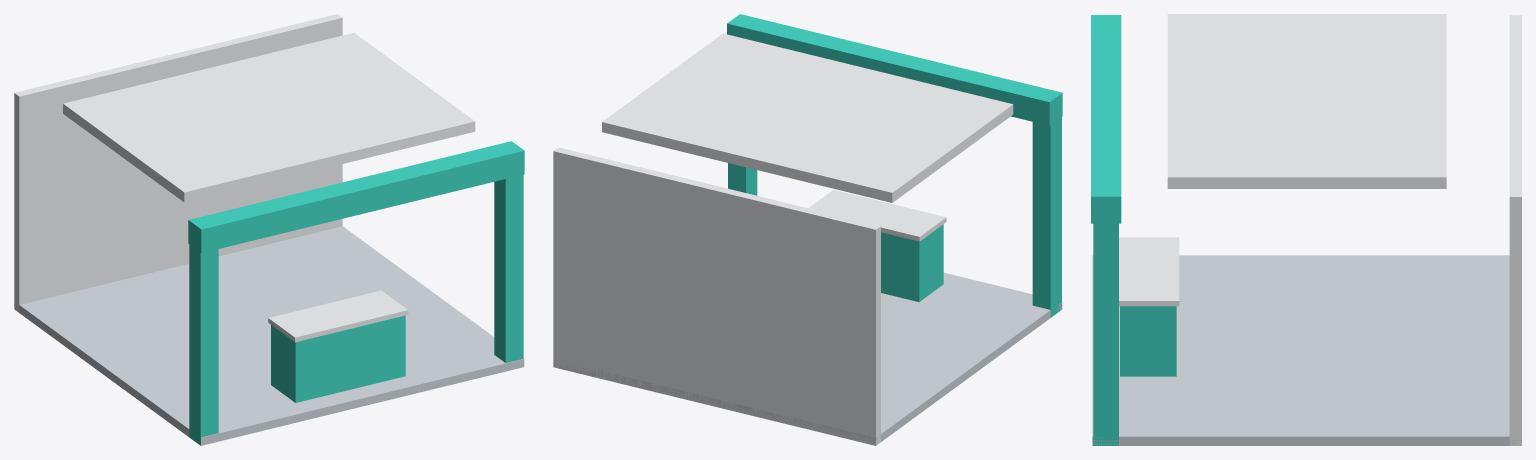
3 renders of one model, left to right at view 1: azimuth 30°, elevation 25°; view 2: azimuth 150°, elevation 25°; view 3: azimuth 270°, elevation 25°, orthographic. The views are drawn at different scales.
Visible parts, largest first — view 1: Exhibition Booth Concept; view 2: Exhibition Booth Concept; view 3: Exhibition Booth Concept.
Part boxes in pixels (x1=…): Exhibition Booth Concept: x1=14, y1=14, x2=524, y2=445; Exhibition Booth Concept: x1=553, y1=14, x2=1062, y2=445; Exhibition Booth Concept: x1=1091, y1=14, x2=1521, y2=445.
Size of the model in its own units: 5 by 3.34 by 5.02.
